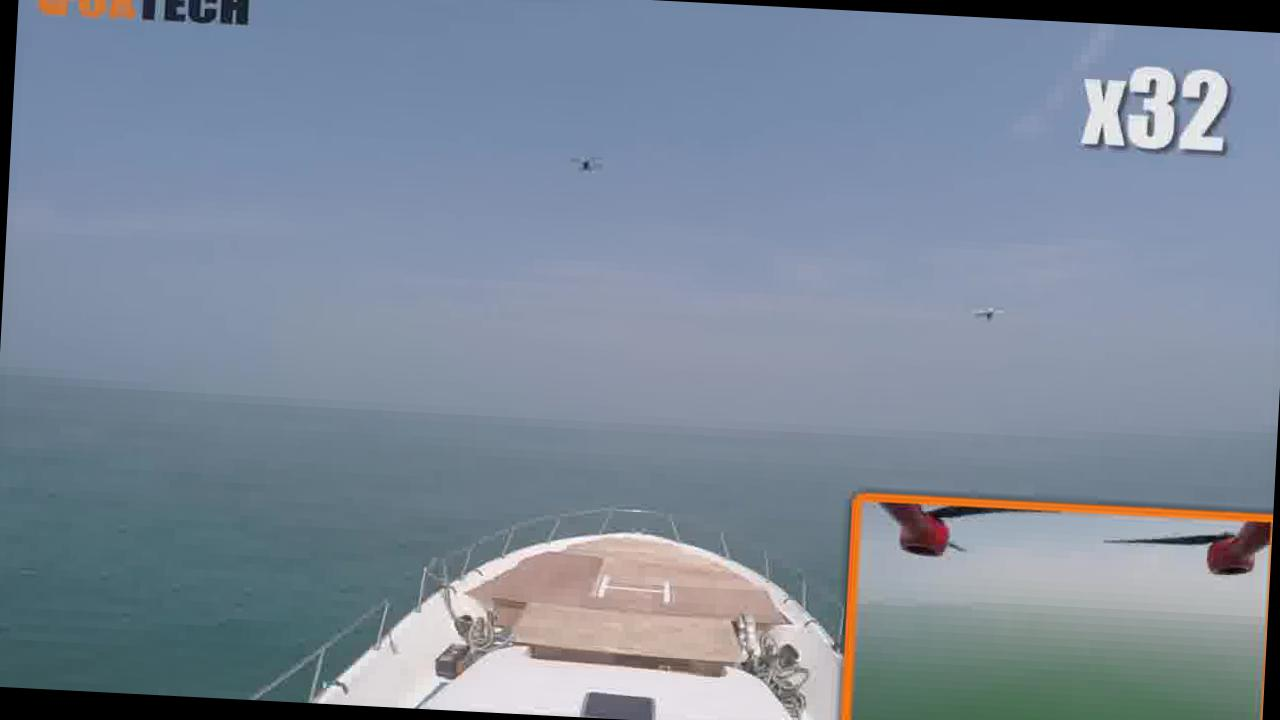drone: (548, 144, 618, 187), (961, 290, 1019, 329)
